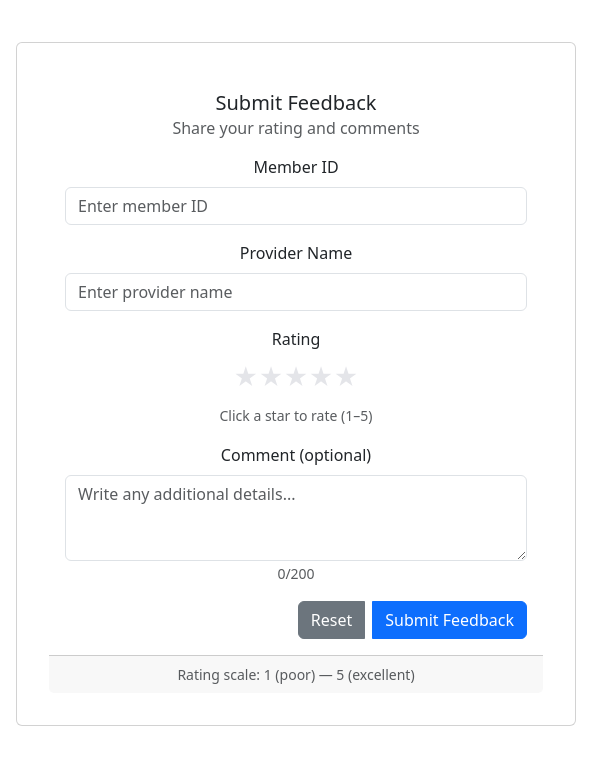
Test: FeedbackCard component › should validate if providerName input field is empty, display error message
Expected: the text "Provider name is required." is not shown
Step 1. Type "memberId is set" into the field labelled "Member ID" → [296, 206], box [65,187,527,225]
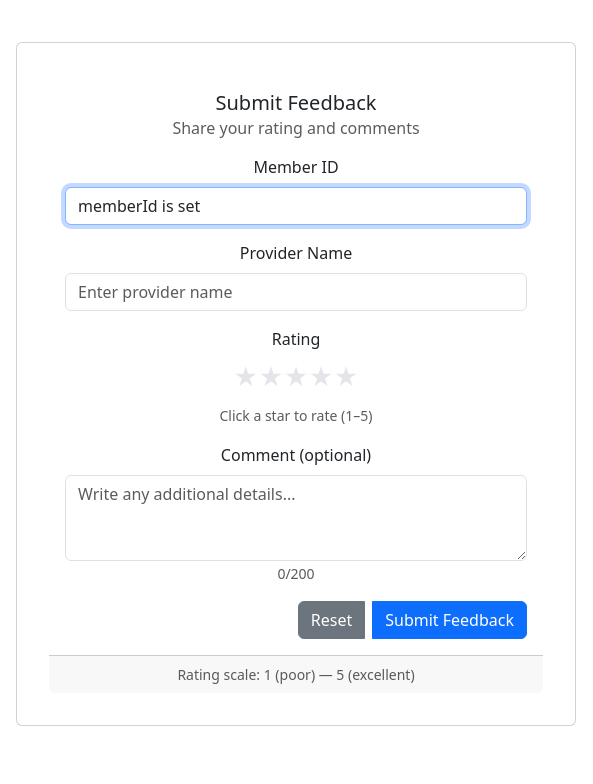
Step 2. Click the button "Submit Feedback" → [450, 620], box [372,601,527,639]
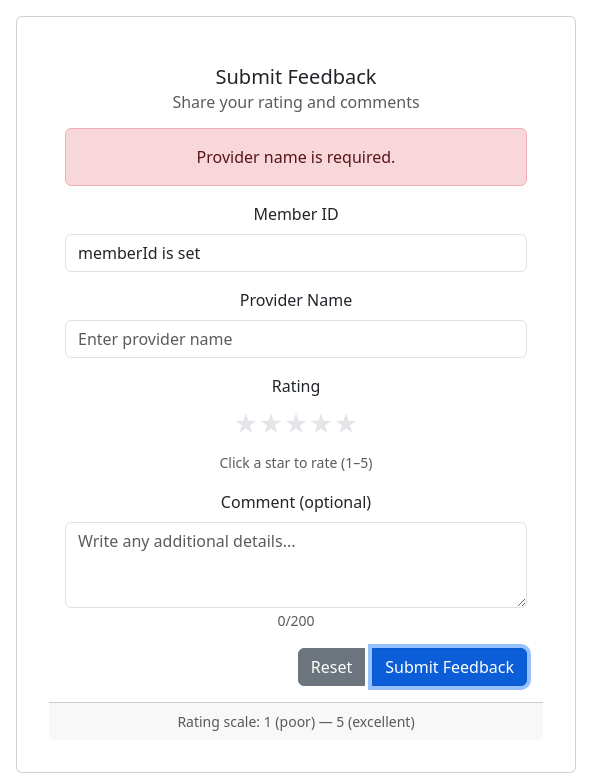
Result: the text "Provider name is required." is shown at [65,128,527,186]
